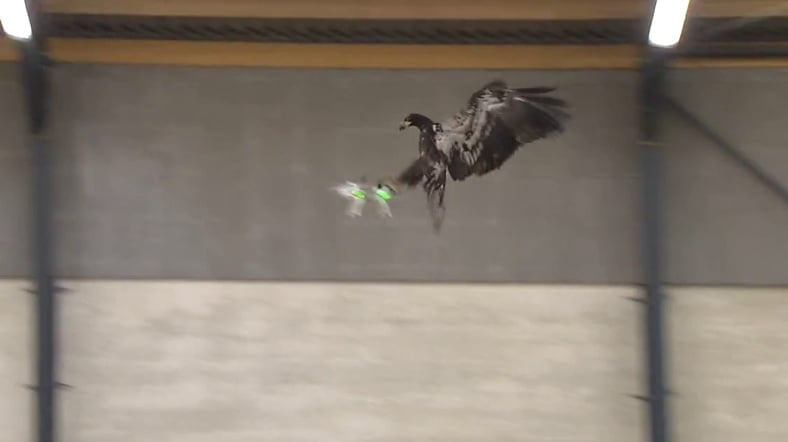Bird: (381, 78, 575, 228)
UAV: (316, 168, 409, 221)
